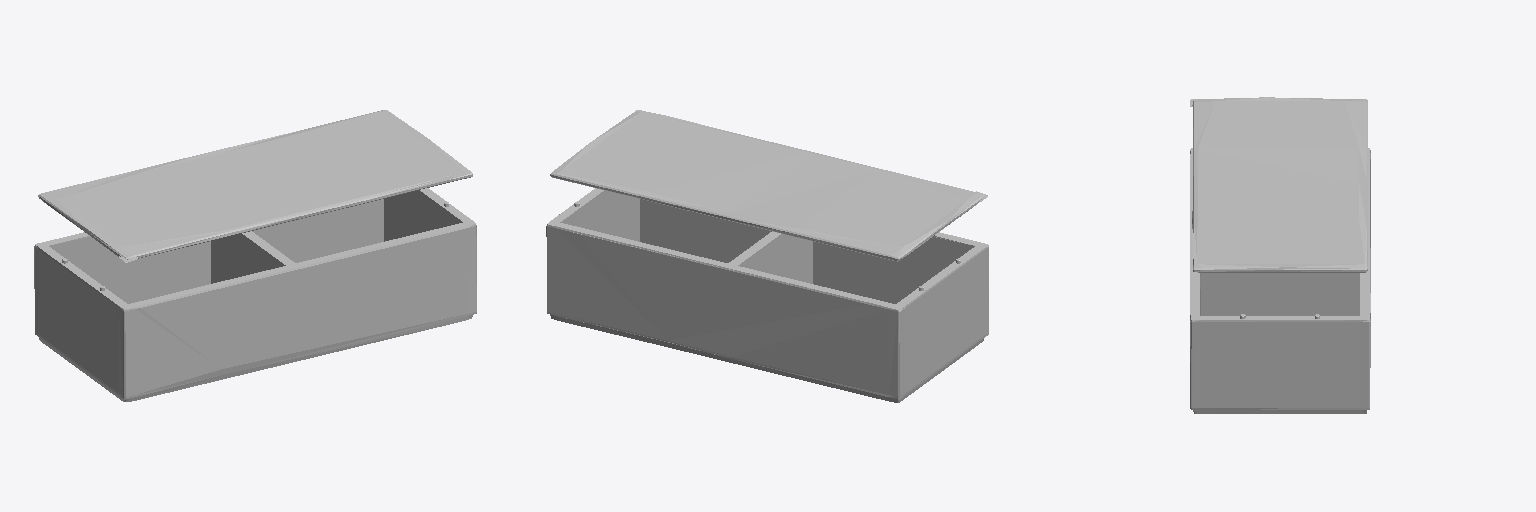
Rendered from CheeseBox_01.obj.
3 renders of one model, left to right at view 1: azimuth 30°, elevation 25°; view 2: azimuth 150°, elevation 25°; view 3: azimuth 270°, elevation 25°, orthographic.
Visible parts, largest first — view 1: Base_low_Plane.001, Lid_low_Plane.003; view 2: Base_low_Plane.001, Lid_low_Plane.003; view 3: Lid_low_Plane.003, Base_low_Plane.001.
Boxes of the visible parts, box(x1,y1,x2,y2) form: Base_low_Plane.001: box(34, 188, 476, 401); Lid_low_Plane.003: box(38, 110, 472, 259); Base_low_Plane.001: box(546, 188, 988, 402); Lid_low_Plane.003: box(550, 110, 984, 261); Lid_low_Plane.003: box(1192, 97, 1367, 272); Base_low_Plane.001: box(1190, 148, 1370, 413).
Bounding box in the file's own units: 0.2404 × 0.0956 × 0.1066.